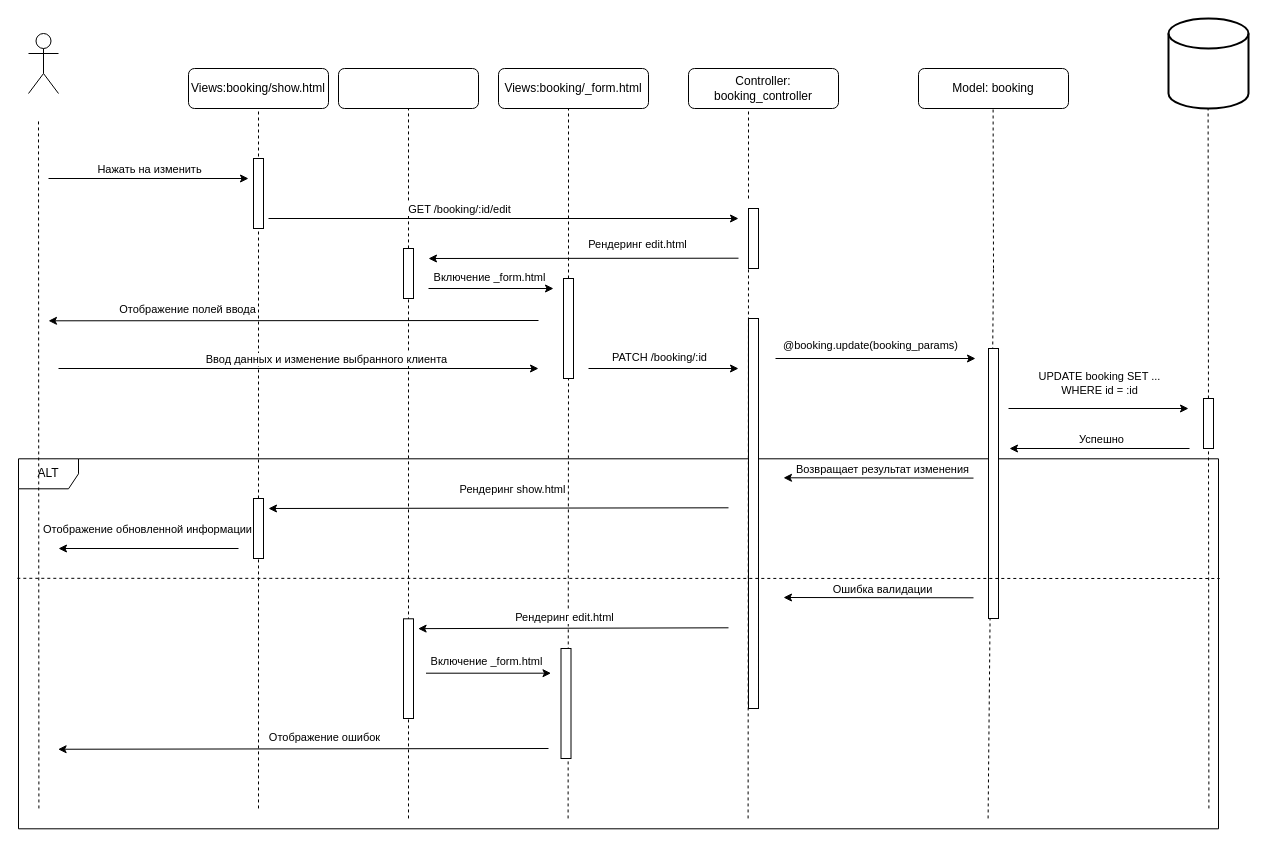
The diagram is 1267 pixels wide and 846 high, and some of its shapes have lost their labels. Each missing label, with the centre of its shape:
"DB" belongs at point (1208, 63).
"User" belongs at point (43, 63).
"Views:booking/edit.html" belongs at point (408, 88).
